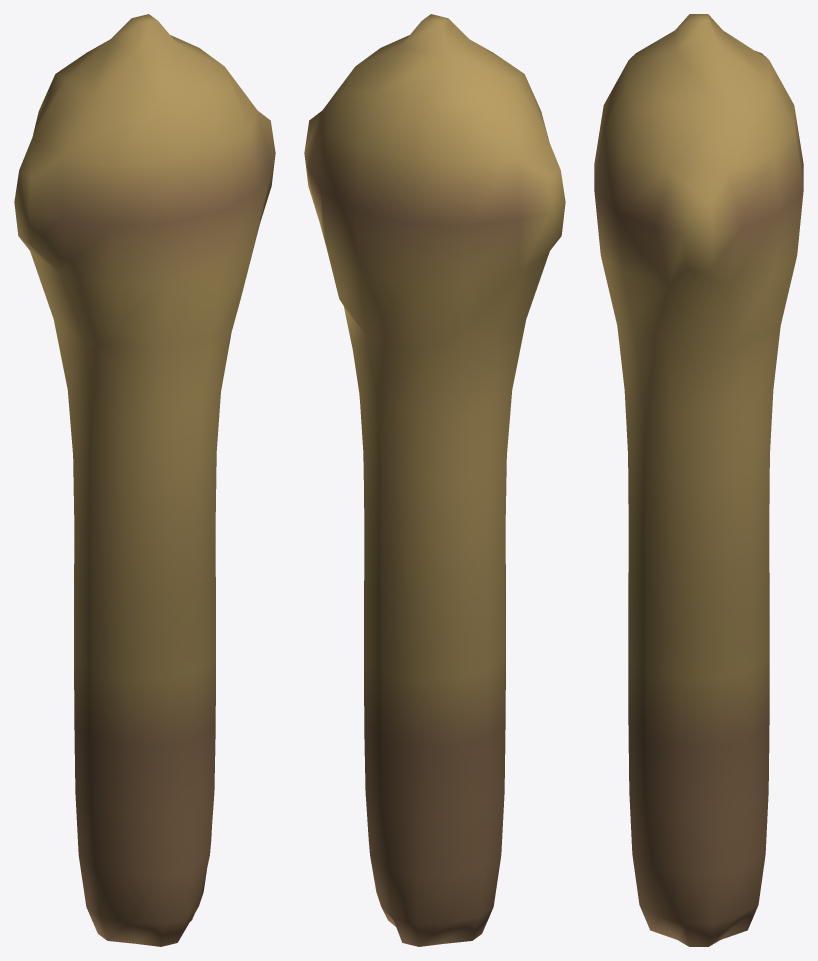
The model's file is room_torch.glb.
3 views of the same model, side by side, from view 1: azimuth 30°, elevation 25°; view 2: azimuth 150°, elevation 25°; view 3: azimuth 270°, elevation 25° (orthographic).
Parts seen in each view (by area): view 1: torch; view 2: torch; view 3: torch.
Part boxes in pixels (x1,y1,x2,y2): torch: [14, 14, 275, 946]; torch: [304, 14, 565, 946]; torch: [594, 14, 803, 946].
Size of the model in its own units: 0.2669 by 0.9449 by 0.1964.
Materials: 1 (1 with a texture image).
